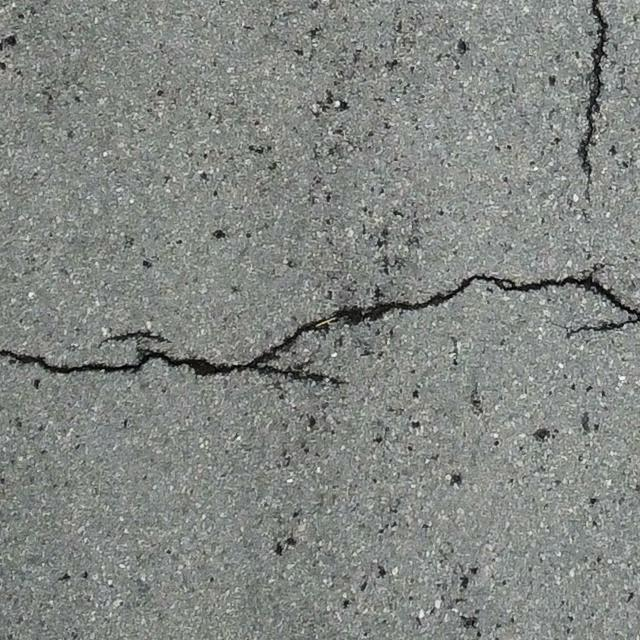LongitudinalCrack: (577, 1, 611, 202)
TransverseCrack: (1, 273, 640, 377)
